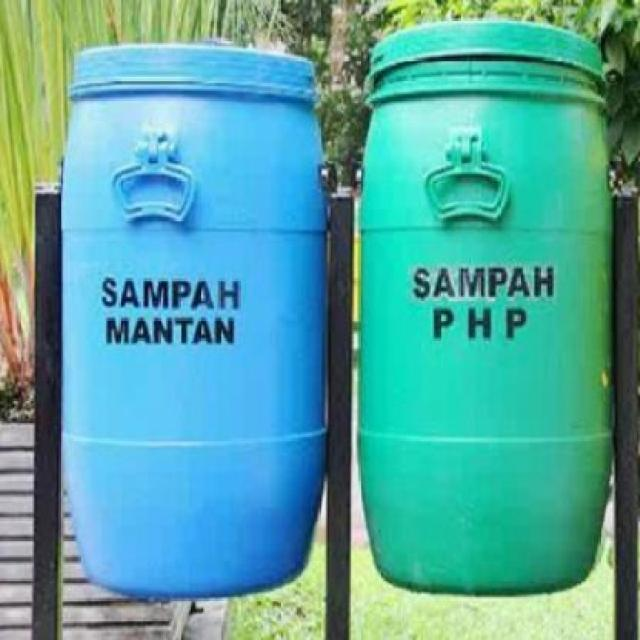garbage container: (57, 43, 336, 611), (357, 10, 618, 610)
